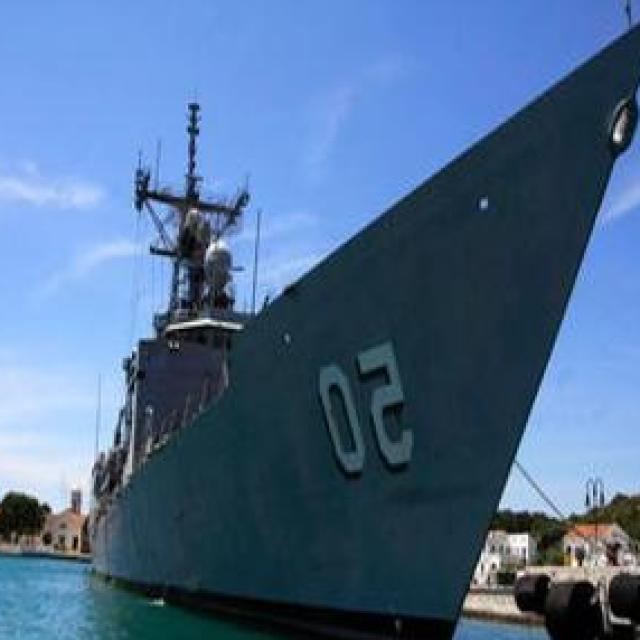navalvessels: (78, 9, 640, 640)
